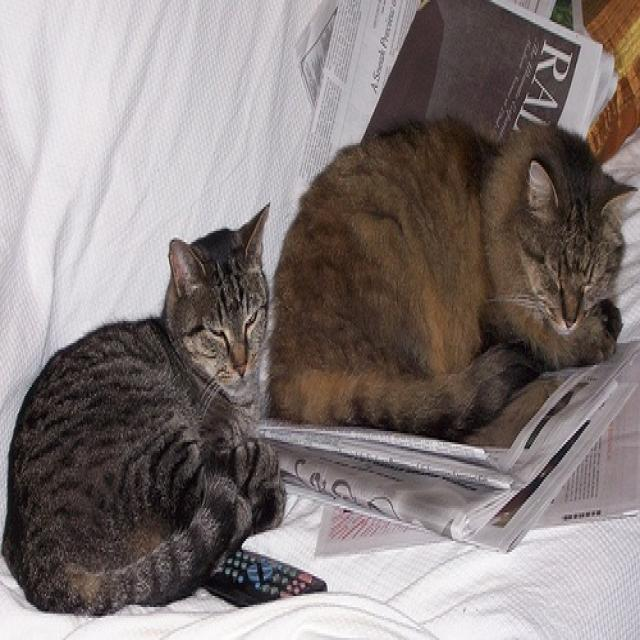cat: (2, 202, 286, 620), (273, 121, 636, 435)
